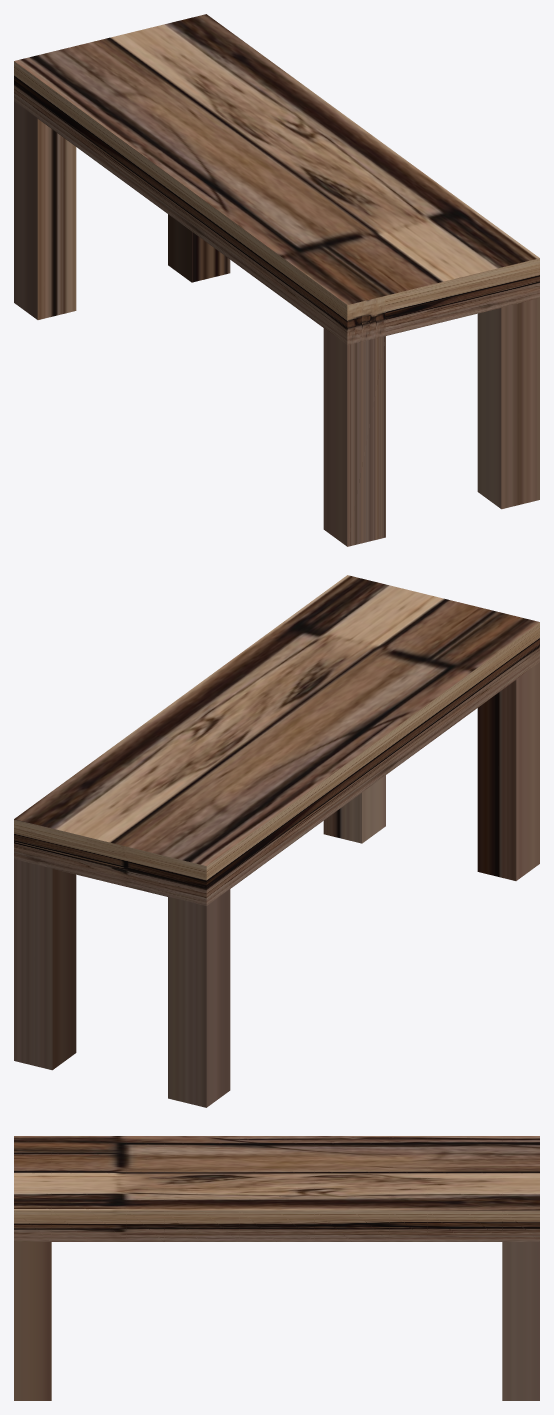
The model's file is Table.glb.
3 renders of one model, top to bottom at view 1: azimuth 30°, elevation 25°; view 2: azimuth 150°, elevation 25°; view 3: azimuth 270°, elevation 25°, orthographic. The views are drawn at different scales.
Visible parts, largest first — view 1: Cube; view 2: Cube; view 3: Cube.
Boxes of the visible parts, x1,y1,x2,y2 form: Cube: (14,14,539,546); Cube: (14,575,539,1107); Cube: (14,1136,539,1400).
Bounding box in the file's own units: 2 × 2.4 × 6.
1 material, 1 textured.
